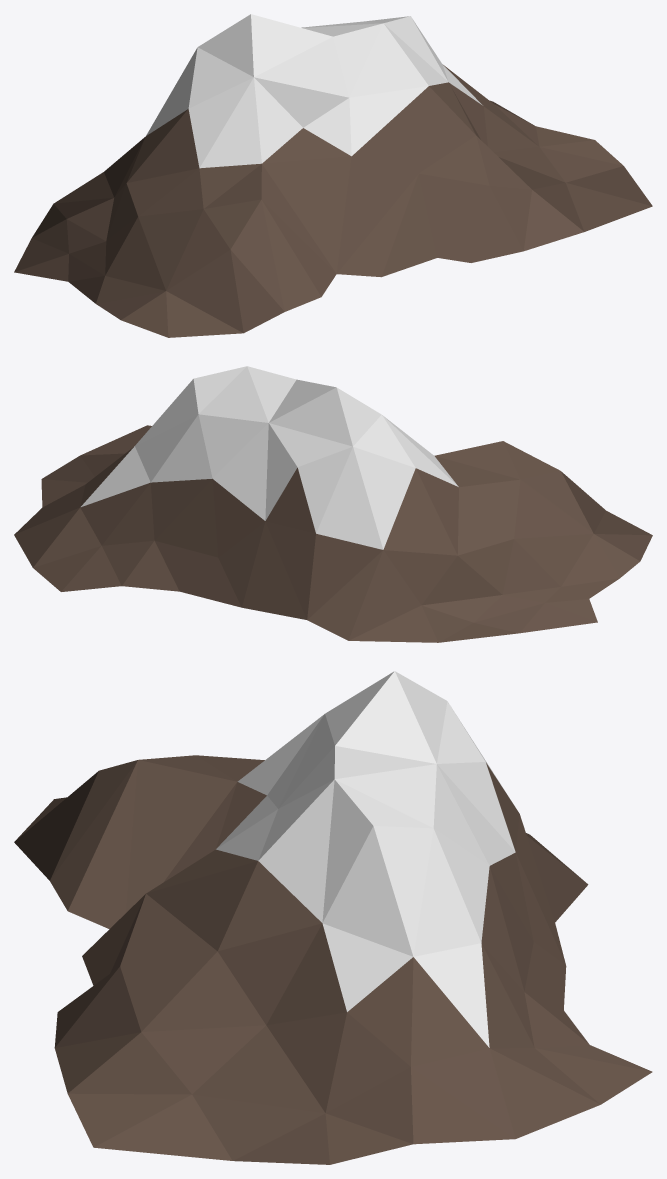
The model's file is mountain01.fbx.
The picture shows the model from 3 angles, top to bottom: view 1: azimuth 30°, elevation 25°; view 2: azimuth 150°, elevation 25°; view 3: azimuth 270°, elevation 25°; orthographic projection. The views are drawn at different scales.
Visible parts, largest first — view 1: terrain_mountain_01; view 2: terrain_mountain_01; view 3: terrain_mountain_01.
Part boxes in pixels (left/top/right/bottom): terrain_mountain_01: left=14, top=14, right=652, bottom=337; terrain_mountain_01: left=14, top=366, right=652, bottom=642; terrain_mountain_01: left=14, top=671, right=652, bottom=1164.
Bounding box in the file's own units: 23.18 × 7.31 × 15.64.
